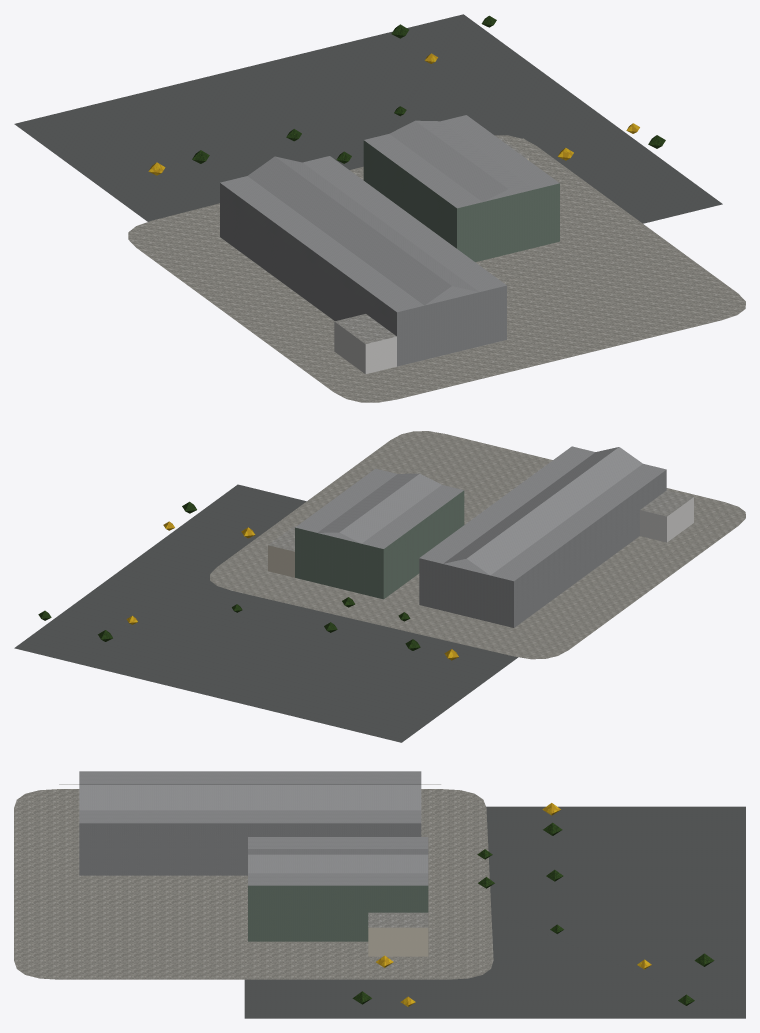
Rendered from cidade_S06_01_lod.gltf.
3 renders of one model, top to bottom at view 1: azimuth 30°, elevation 25°; view 2: azimuth 150°, elevation 25°; view 3: azimuth 270°, elevation 25°, orthographic. The views are drawn at different scales.
Visible parts, largest first — view 1: S06_01_Chao_LOD2, S06_01_Edificios_LOD1, S06_01_Silhueta_LOD2, S06_01_Vegetacao_LOD2; view 2: S06_01_Chao_LOD2, S06_01_Edificios_LOD1, S06_01_Silhueta_LOD2, S06_01_Vegetacao_LOD2; view 3: S06_01_Chao_LOD2, S06_01_Edificios_LOD1, S06_01_Silhueta_LOD2, S06_01_Vegetacao_LOD2.
Part boxes in pixels (x1,y1,x2,y2): S06_01_Chao_LOD2: (14,14,745,402); S06_01_Edificios_LOD1: (149,120,636,377); S06_01_Silhueta_LOD2: (220,115,559,365); S06_01_Vegetacao_LOD2: (148,15,665,175); S06_01_Chao_LOD2: (14,431,745,742); S06_01_Edificios_LOD1: (228,447,727,637); S06_01_Silhueta_LOD2: (295,446,666,627); S06_01_Vegetacao_LOD2: (38,501,458,660); S06_01_Chao_LOD2: (14,789,745,1018); S06_01_Edificios_LOD1: (59,784,447,962); S06_01_Silhueta_LOD2: (79,771,428,941); S06_01_Vegetacao_LOD2: (352,803,714,1006).
Bounding box in the file's own units: 109 × 14.44 × 146.
10 materials, 10 textured.
